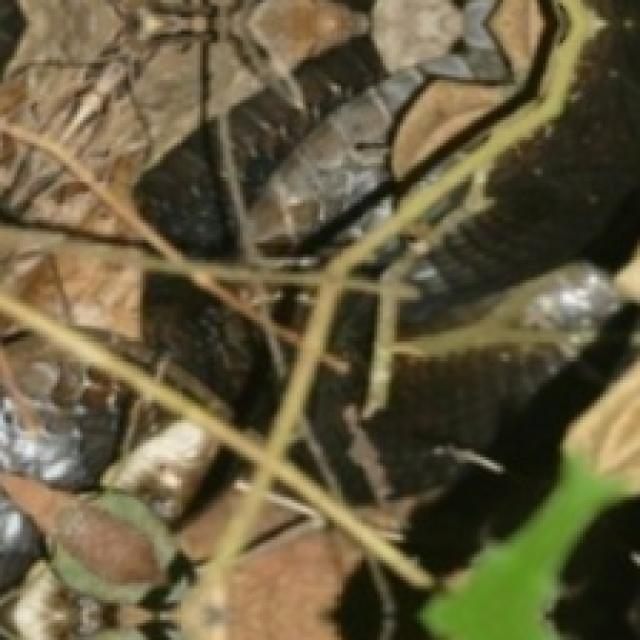king cobra: (0, 0, 637, 637), (554, 546, 637, 637), (49, 497, 154, 566)
